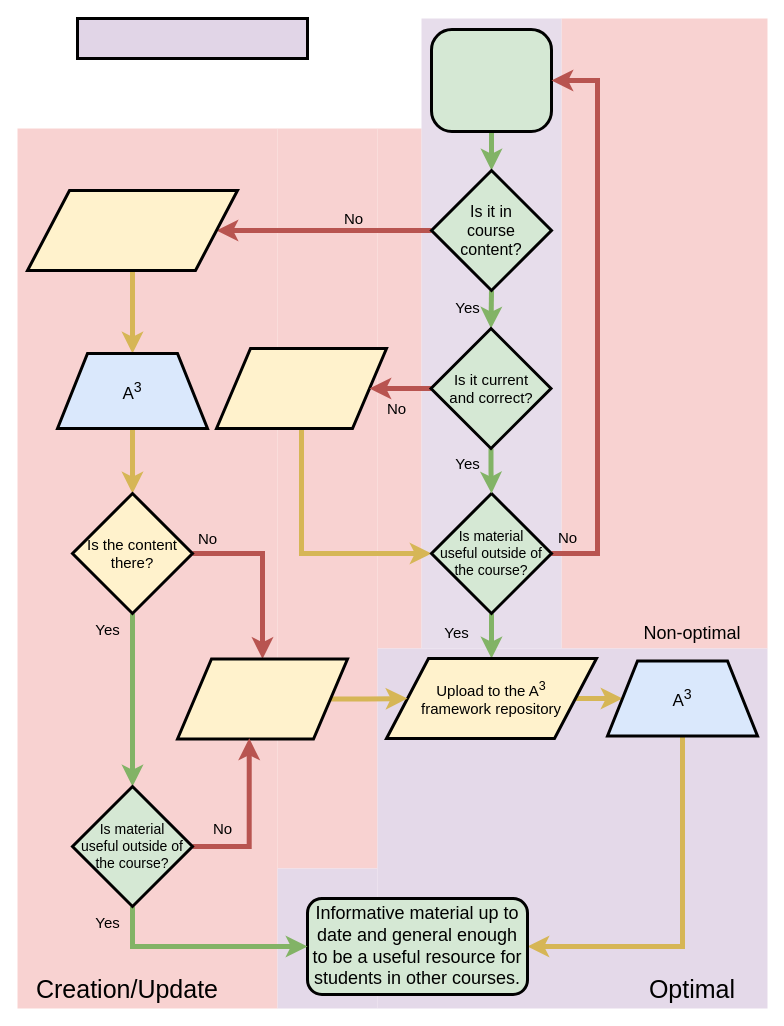
Image size: 784x1026. Some labels were removed from this diagram. Here are the shapes that lost their labels. From the top down, the centre of each, then its label:
At (192,38): "Faculty perspective".
At (491,80): "Identify need for reference material".
At (132,230): "Look in the A 3 framework repository".
At (301,388): "Update course content".
At (262,698): "Create new reference material".
